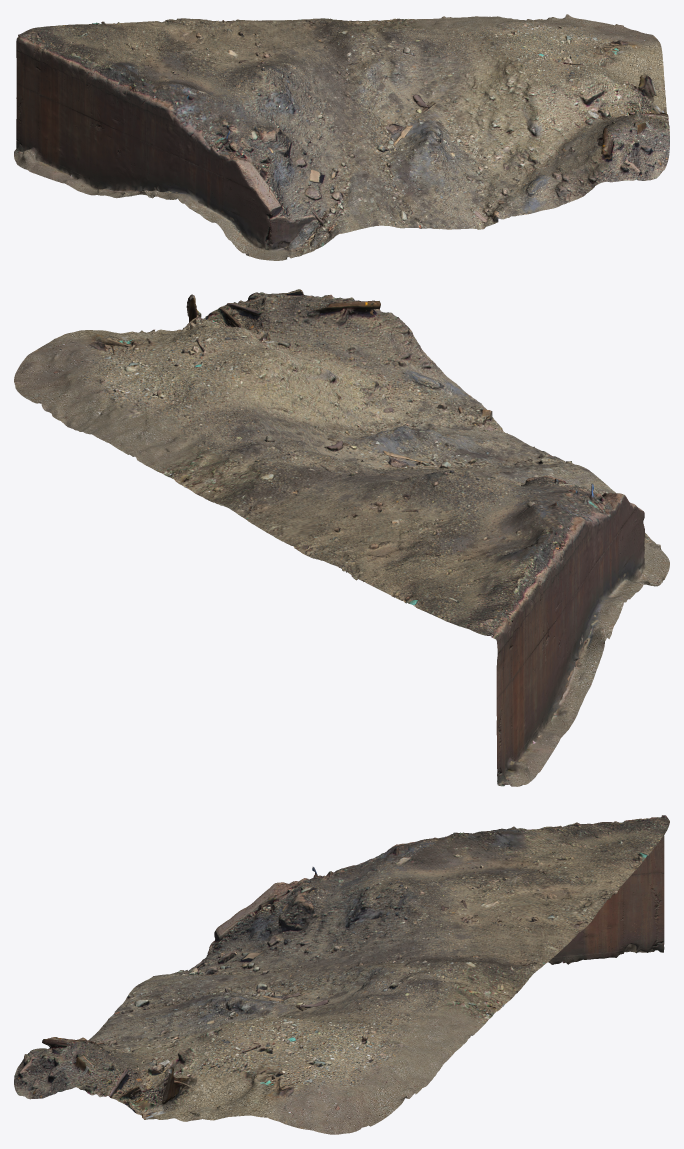
Rendered from MOD_Ramp.fbx.
3 views of the same model, one above another, from view 1: azimuth 30°, elevation 25°; view 2: azimuth 150°, elevation 25°; view 3: azimuth 270°, elevation 25° (orthographic). The views are drawn at different scales.
Visible parts, largest first — view 1: MOD_Ramp; view 2: MOD_Ramp; view 3: MOD_Ramp.
Part boxes in pixels (box(x1,y1,x2,y2)): MOD_Ramp: box(14, 14, 669, 260); MOD_Ramp: box(14, 289, 669, 786); MOD_Ramp: box(14, 815, 669, 1134).
Bounding box in the file's own units: 1224 × 297 × 1115.
